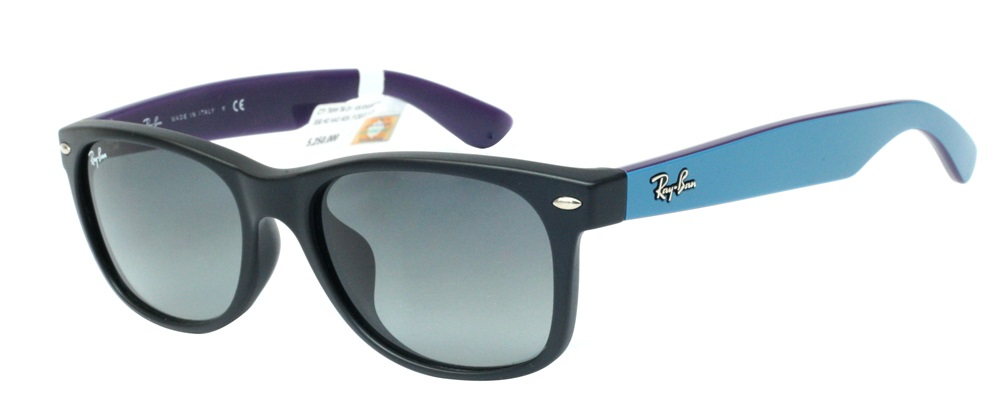Rayban: (643, 161, 704, 210), (80, 139, 112, 171)
